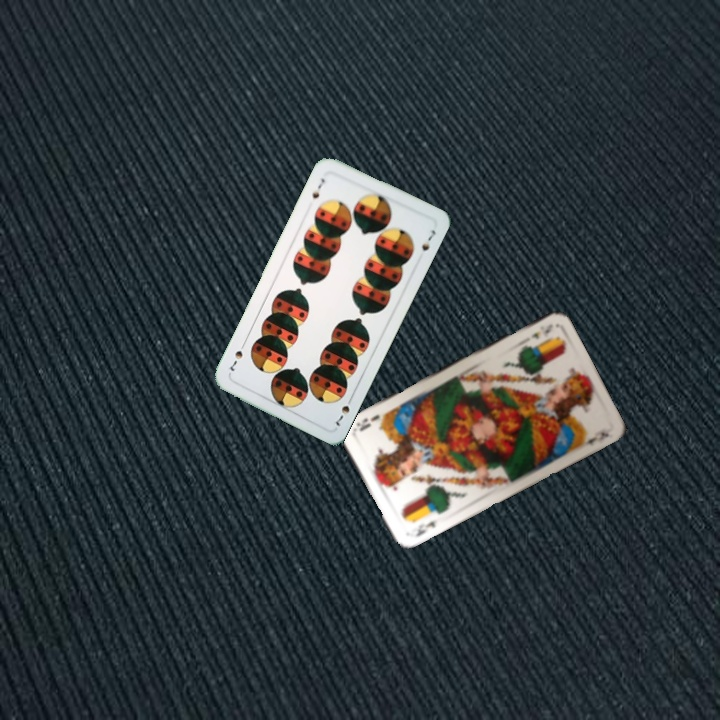EK: (411, 517, 438, 539), (527, 320, 555, 341)
S7: (332, 392, 356, 429), (308, 174, 327, 201)
